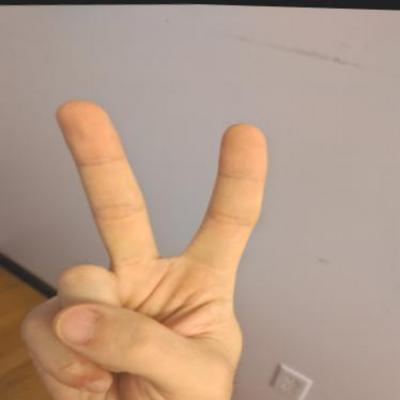hand: (4, 87, 290, 399)
